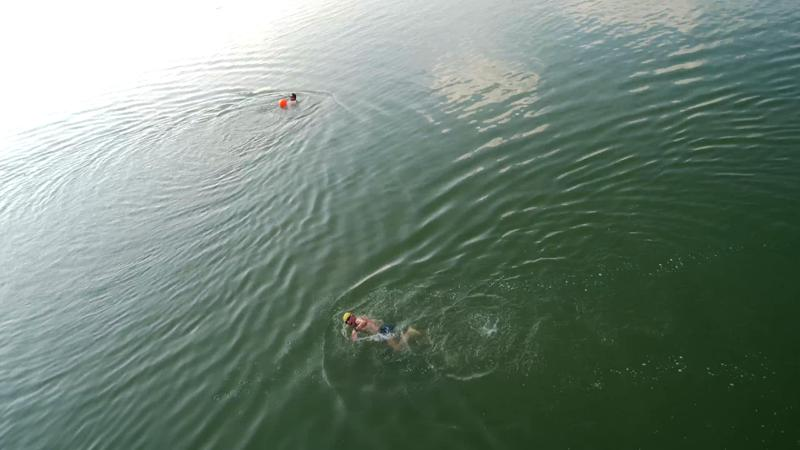swimmers: (342, 311, 420, 350), (276, 91, 298, 107)
